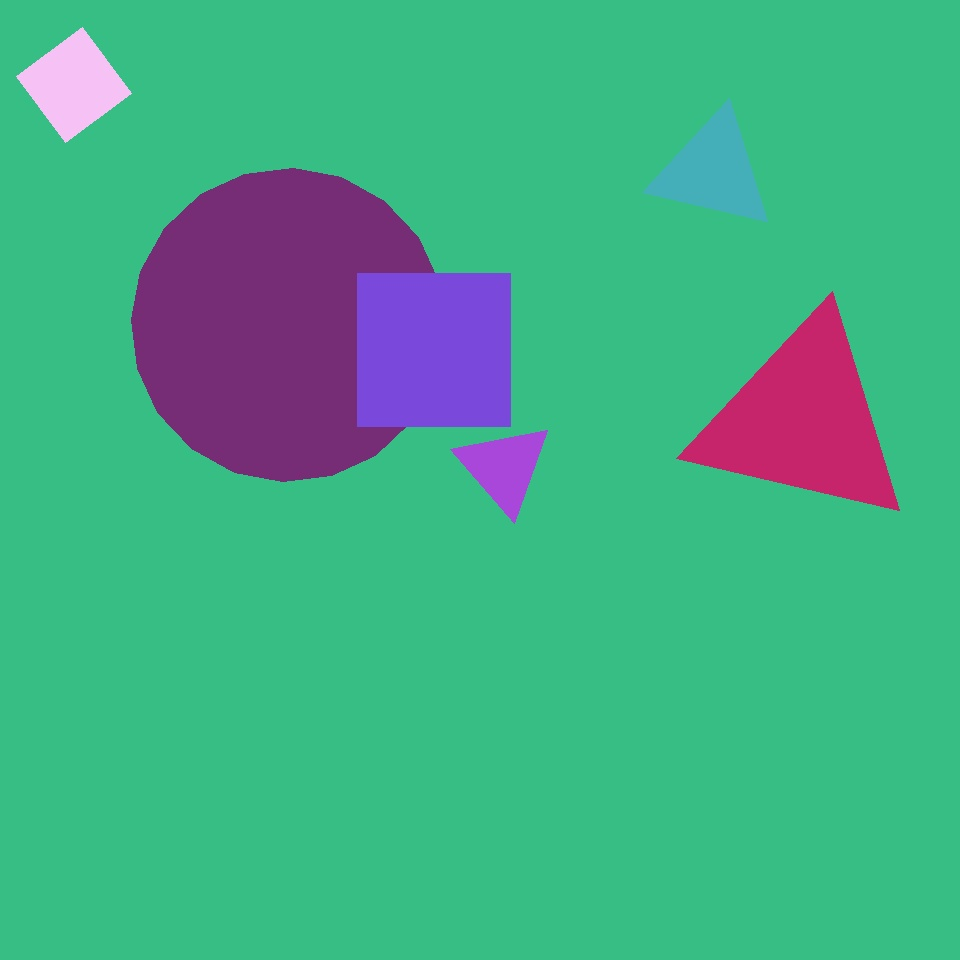circle: (691, 310, 914, 530), (188, 18, 372, 212), (650, 110, 775, 232), (456, 421, 552, 514)
square: (335, 60, 690, 416), (358, 274, 510, 426), (16, 28, 132, 142)
triangle: (132, 168, 444, 482)
